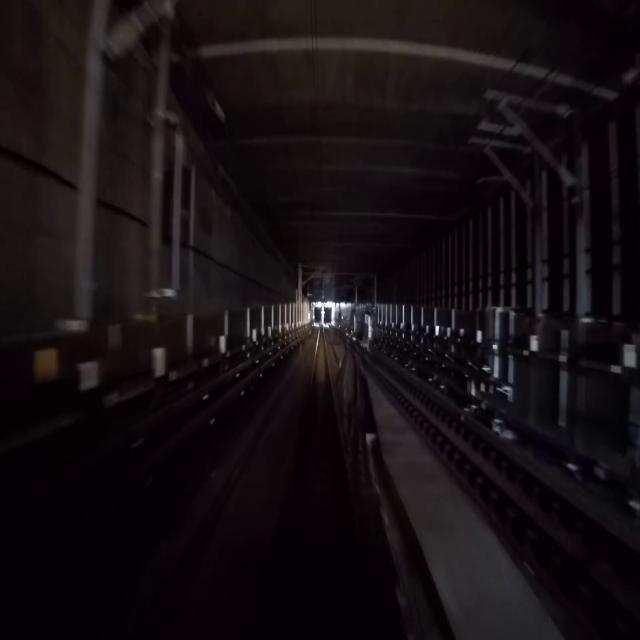rail-track: (353, 339, 639, 607), (285, 328, 361, 639), (340, 345, 356, 401), (338, 329, 350, 341)
